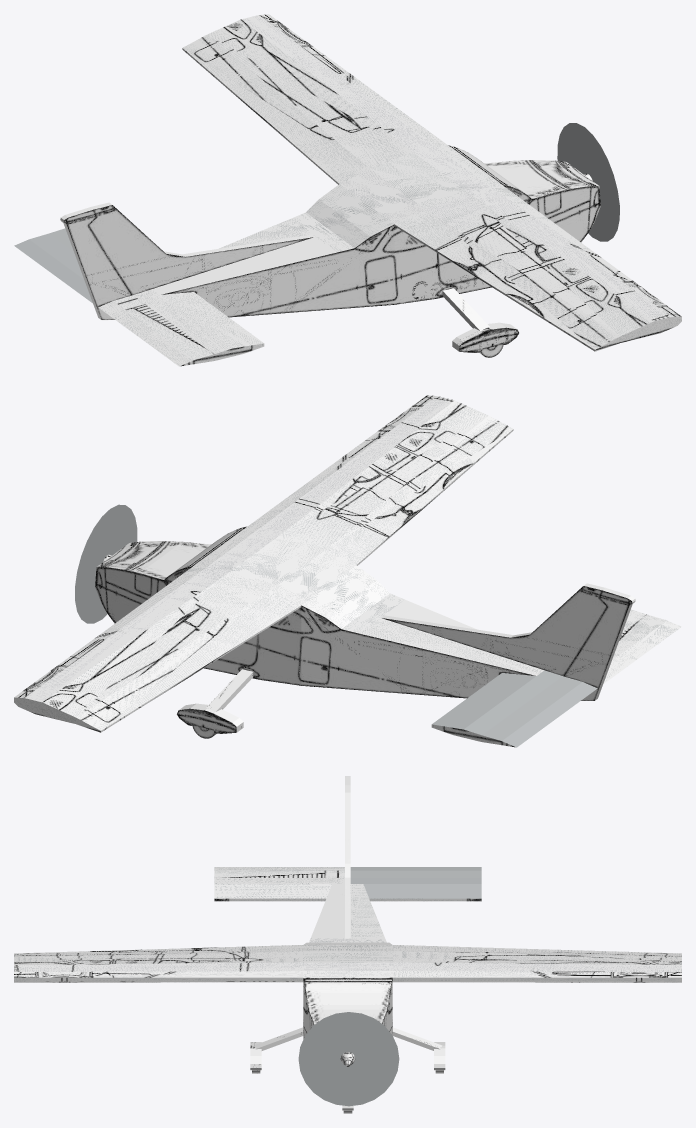
The picture shows the model from 3 angles, top to bottom: view 1: azimuth 30°, elevation 25°; view 2: azimuth 150°, elevation 25°; view 3: azimuth 270°, elevation 25°; orthographic projection. The views are drawn at different scales.
Visible parts, largest first — view 1: mesh1_mesh1-geometry, mesh5_mesh5-geometry, mesh3_mesh3-geometry; view 2: mesh1_mesh1-geometry, mesh5_mesh5-geometry, mesh2_mesh2-geometry; view 3: mesh1_mesh1-geometry, mesh5_mesh5-geometry.
Boxes of the visible parts, x1,y1,x2,y2 form: mesh1_mesh1-geometry: (14, 14, 681, 366); mesh5_mesh5-geometry: (557, 123, 619, 241); mesh3_mesh3-geometry: (452, 322, 518, 357); mesh1_mesh1-geometry: (14, 395, 681, 747); mesh5_mesh5-geometry: (75, 504, 137, 623); mesh2_mesh2-geometry: (177, 703, 243, 738); mesh1_mesh1-geometry: (14, 776, 681, 1113); mesh5_mesh5-geometry: (298, 1012, 399, 1106).
Bounding box in the file's own units: 0.5965 × 0.1965 × 0.7782.
3 materials, 1 textured.
